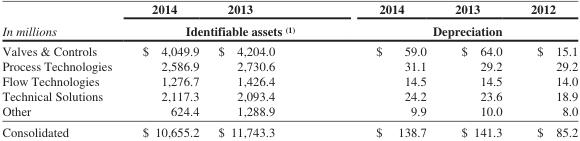table: (1, 1, 577, 138)
table column: (207, 1, 334, 138), (1, 1, 126, 138), (334, 1, 439, 138), (126, 1, 207, 138), (439, 1, 515, 138), (515, 1, 577, 138)
table column header: (1, 1, 577, 19)
table row: (1, 19, 577, 40), (1, 1, 577, 19), (1, 40, 577, 58), (1, 103, 577, 121), (1, 121, 577, 138), (1, 58, 577, 73), (1, 73, 577, 88), (1, 88, 577, 103)
table spanning cell: (334, 19, 577, 40), (126, 19, 334, 40)
